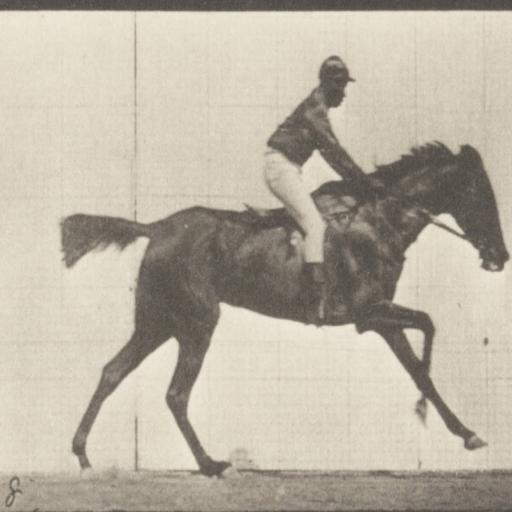horse: (60, 140, 511, 477)
